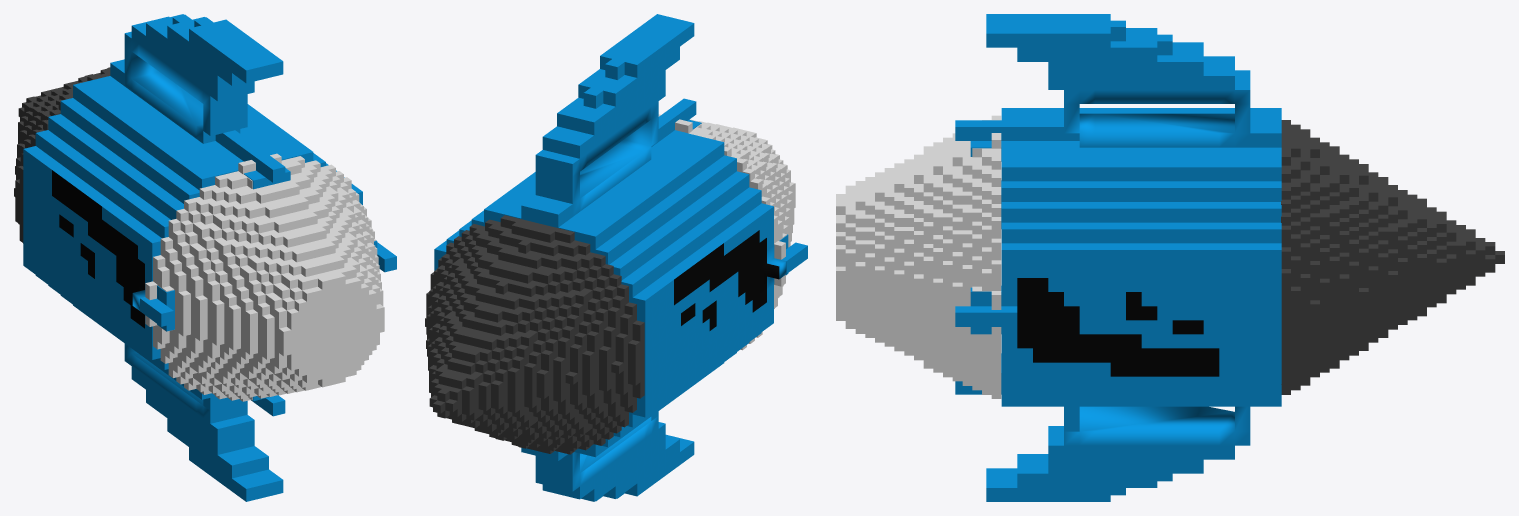
File: speeddrill 1.fbx
3 views of the same model, side by side, from view 1: azimuth 30°, elevation 25°; view 2: azimuth 150°, elevation 25°; view 3: azimuth 270°, elevation 25° (orthographic). The views are drawn at different scales.
Parts seen in each view (by area): view 1: Cylinder, Cone.001, Cone; view 2: Cylinder, Cone, Cone.001; view 3: Cylinder, Cone, Cone.001.
Boxes of the visible parts, box(x1,y1,x2,y2) form: Cylinder: box(23, 14, 396, 501); Cone.001: box(145, 153, 384, 401); Cone: box(14, 67, 110, 243); Cylinder: box(434, 14, 807, 501); Cone: box(425, 215, 644, 454); Cone.001: box(658, 114, 795, 350); Cylinder: box(955, 14, 1281, 501); Cone: box(1281, 120, 1504, 394); Cone.001: box(836, 115, 1001, 398).
Bounding box in the file's own units: 211 × 369 × 477.
